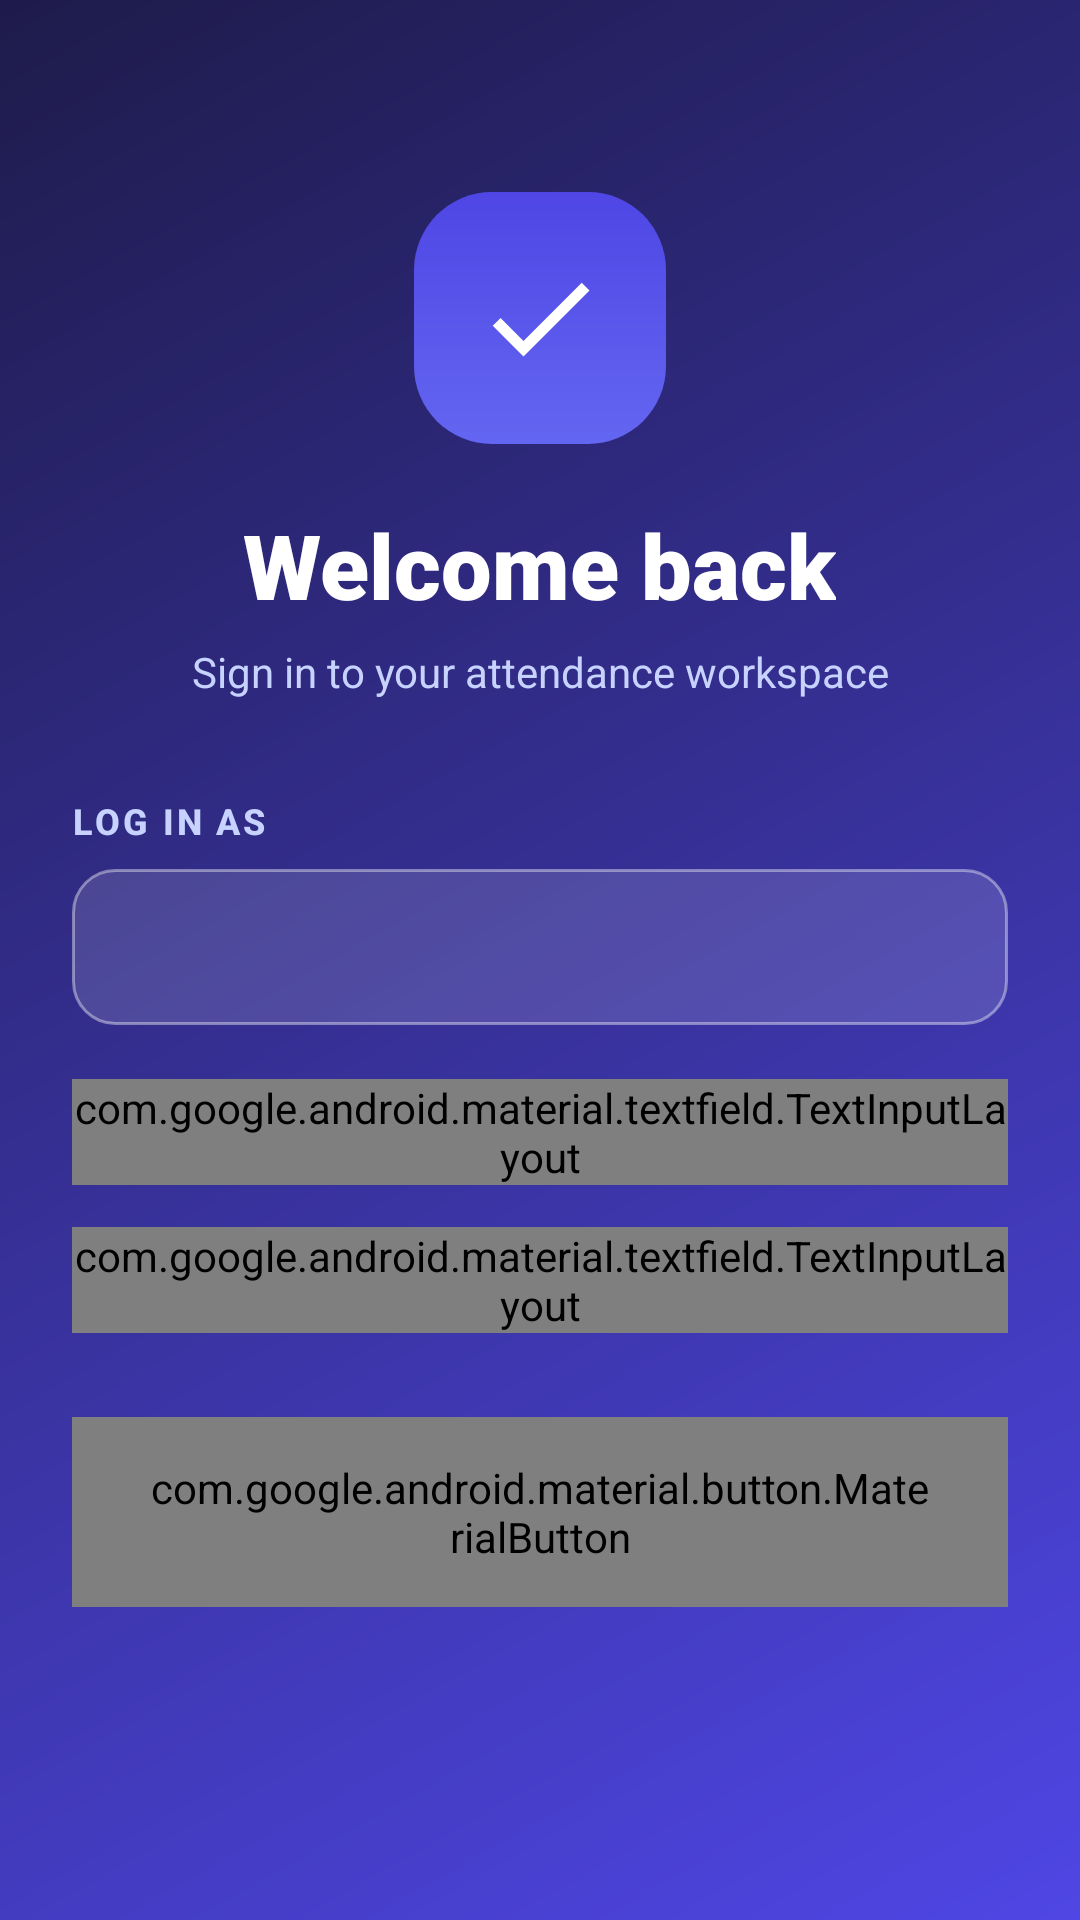

Point at icon controls on the screen. Image size 1080*1920, points as [x,y].
check: [540,318]
